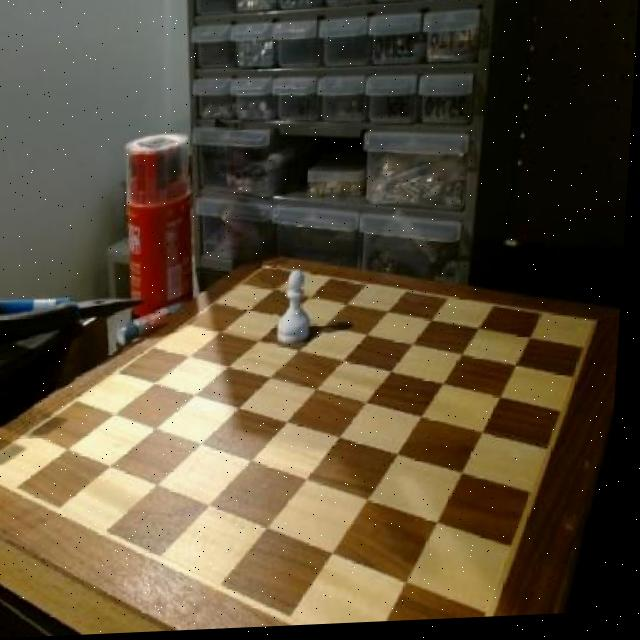white-knight: (273, 267, 320, 350)
